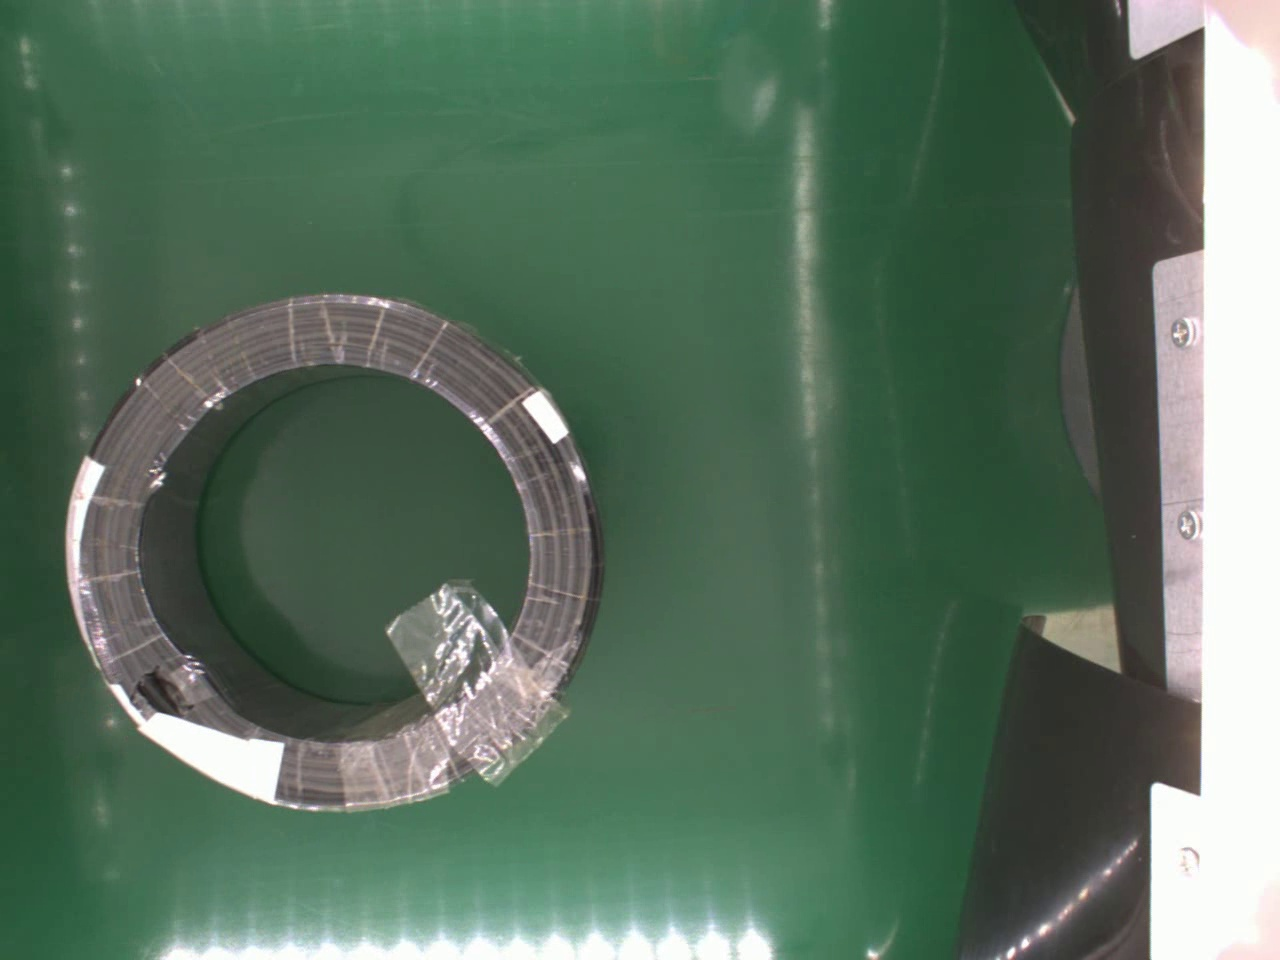black: (61, 288, 605, 814)
